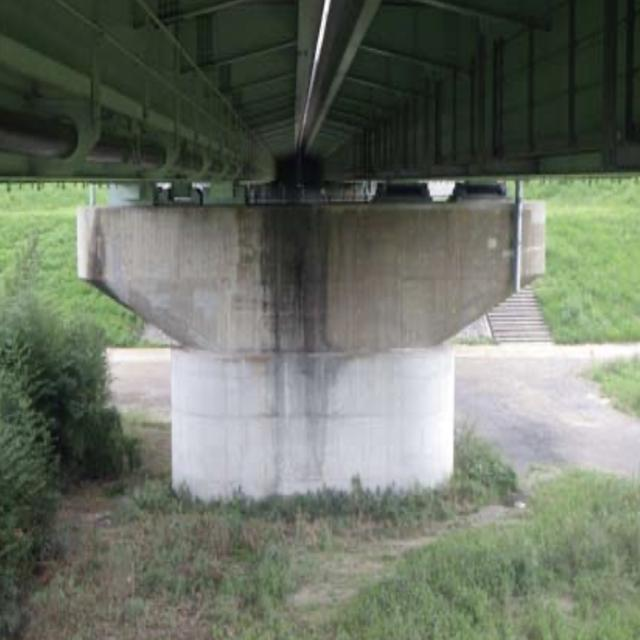leakage: (256, 183, 361, 394)
